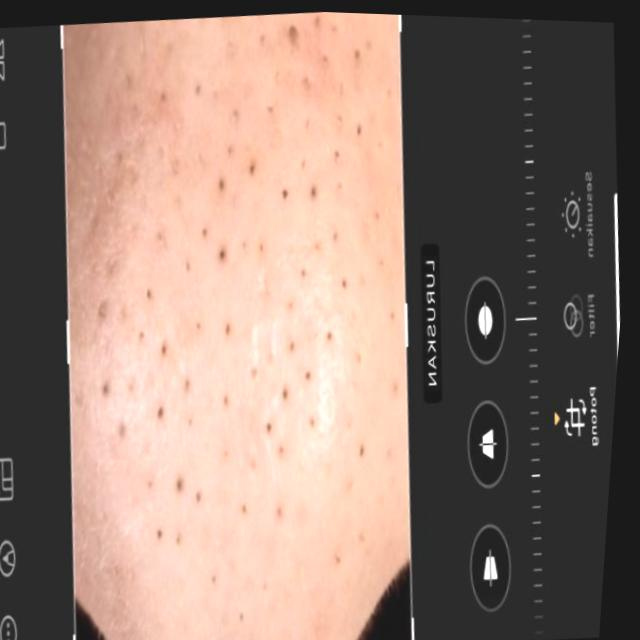blackhead: (94, 46, 404, 640)
